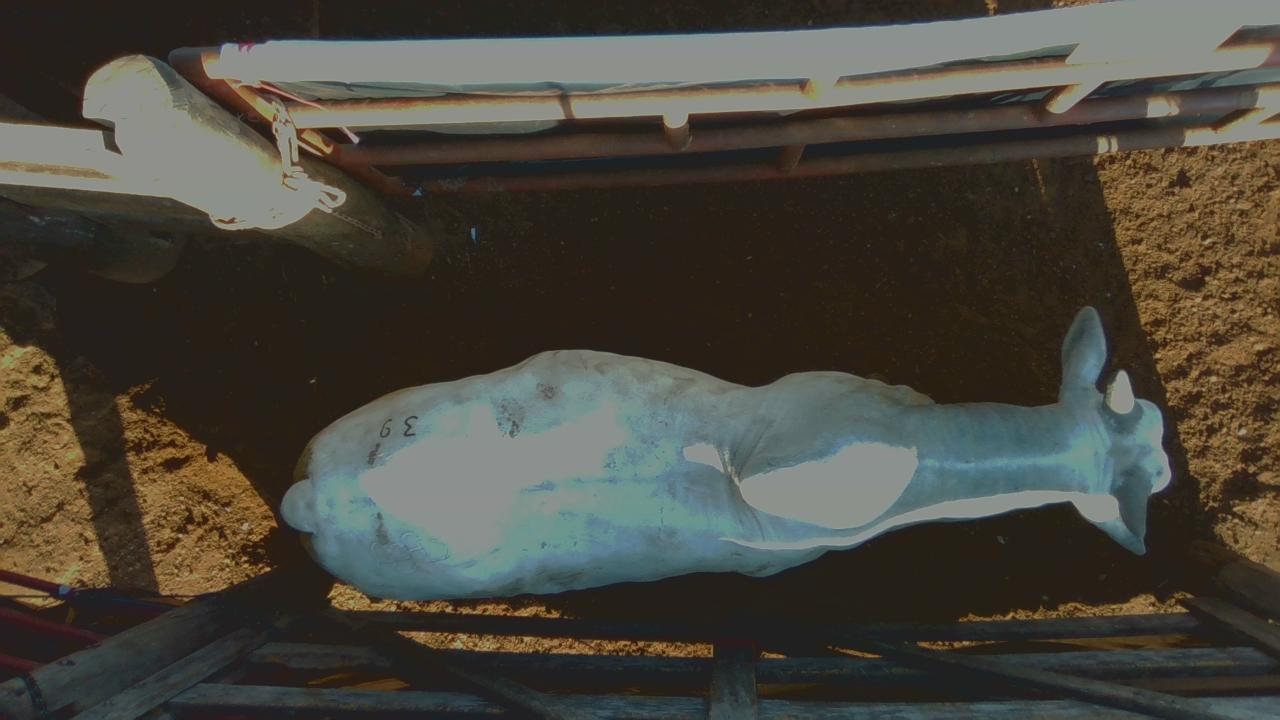cattle: (279, 304, 1172, 602)
